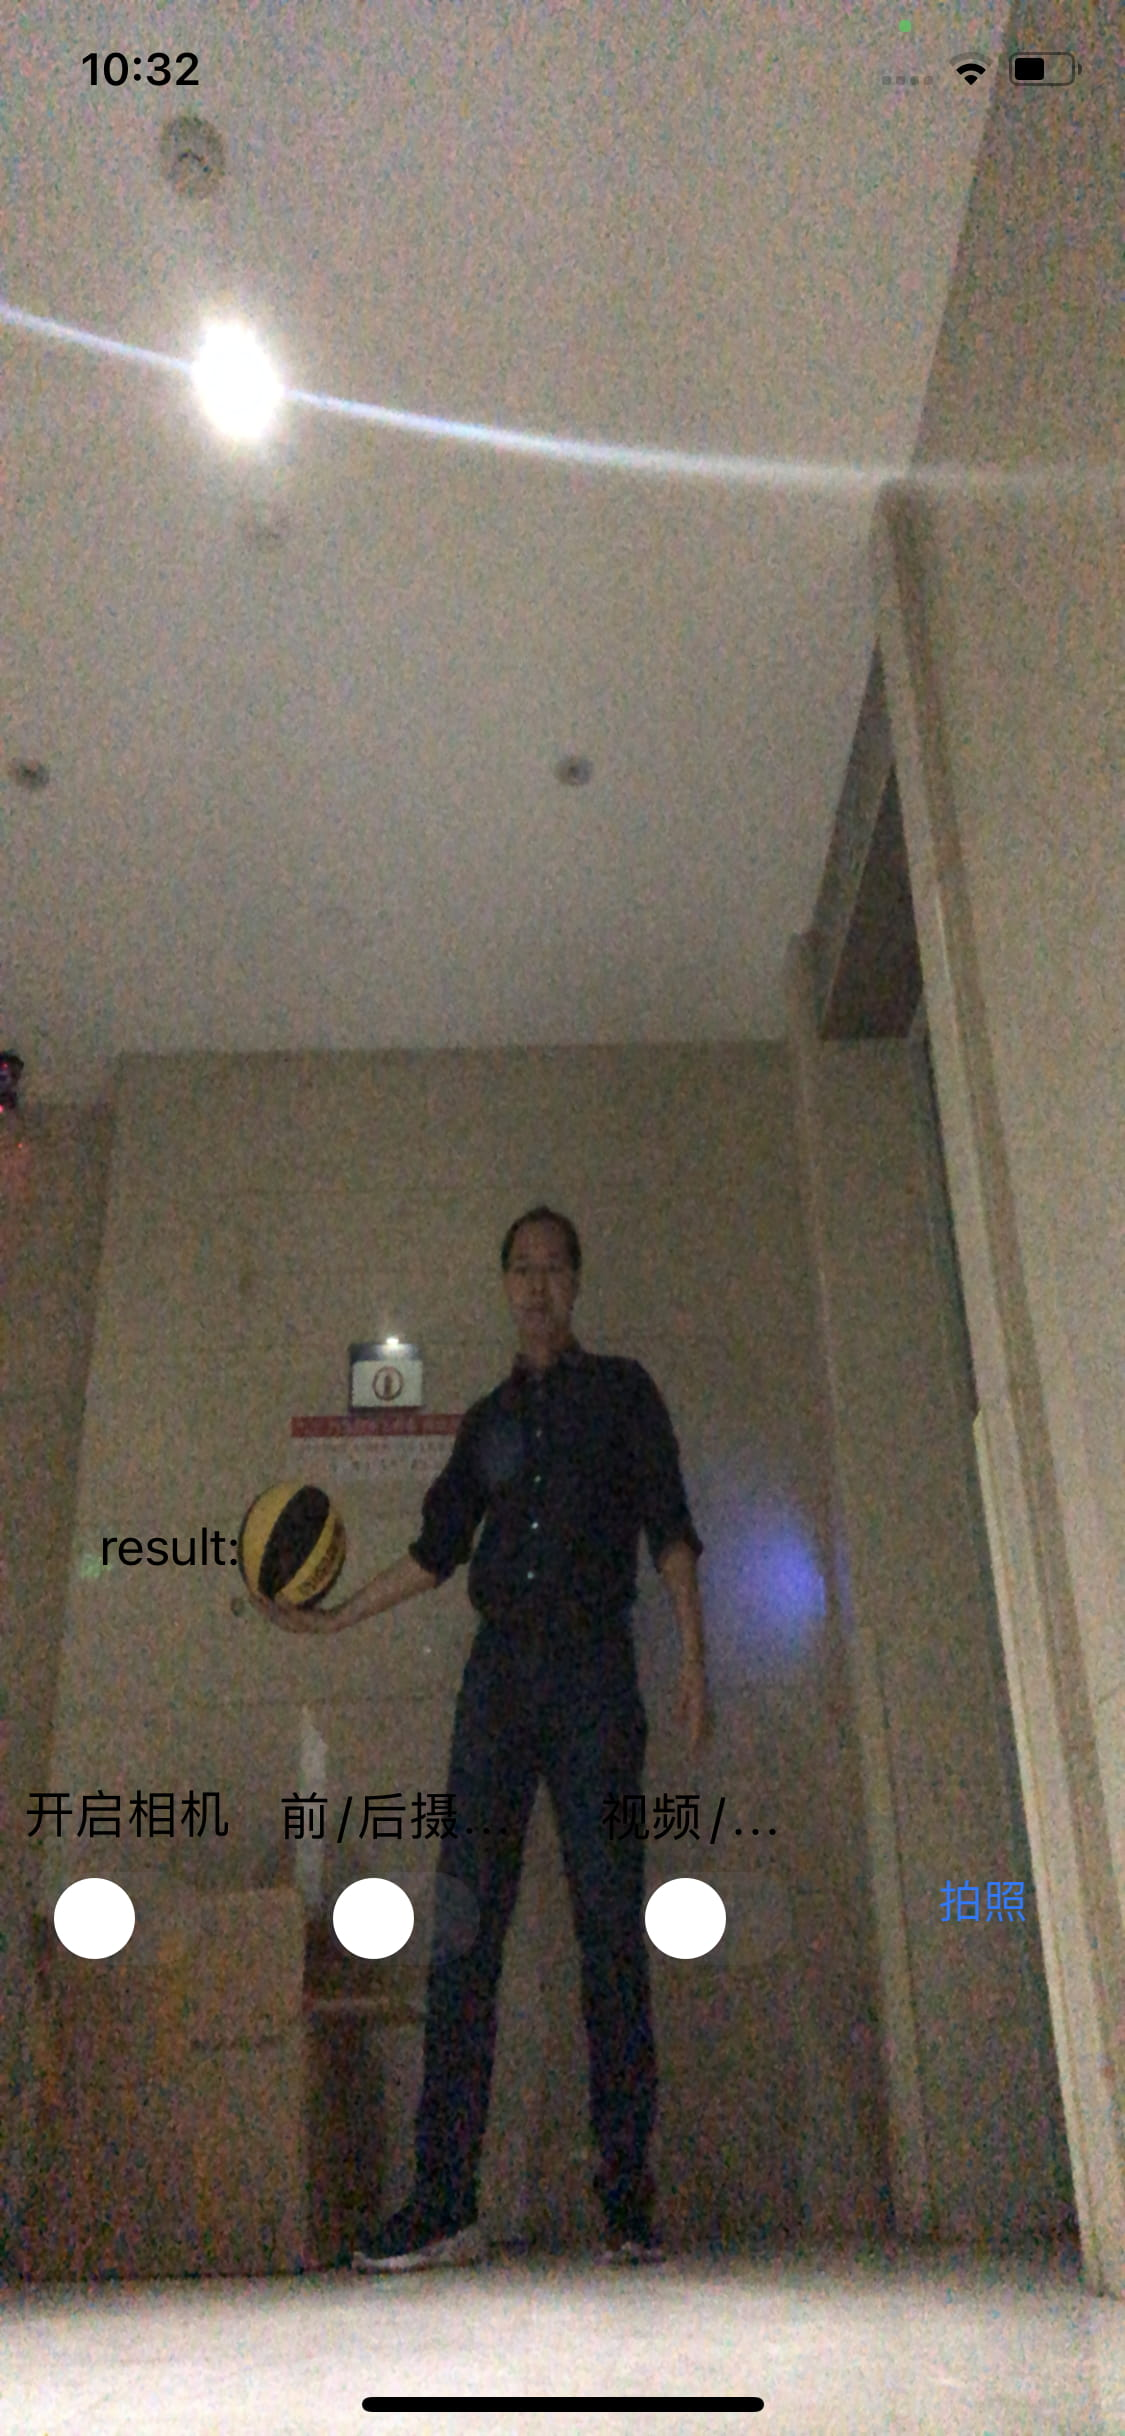ball: (238, 1484, 348, 1613)
